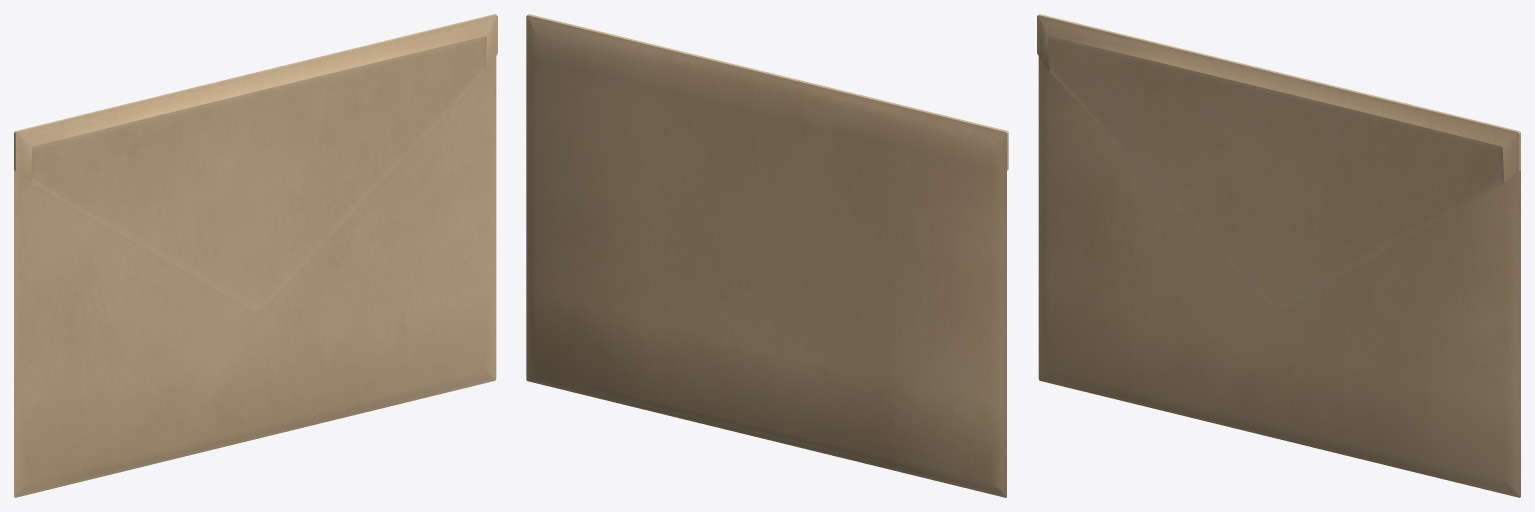
3 views of the same model, side by side, from view 1: azimuth 30°, elevation 25°; view 2: azimuth 150°, elevation 25°; view 3: azimuth 330°, elevation 25° (orthographic).
Parts seen in each view (by area): view 1: envelope_low_envelope_0; view 2: envelope_low_envelope_0; view 3: envelope_low_envelope_0.
Boxes of the visible parts, x1,y1,x2,y2 form: envelope_low_envelope_0: [14, 14, 497, 497]; envelope_low_envelope_0: [526, 14, 1008, 497]; envelope_low_envelope_0: [1037, 14, 1520, 497].
Bounding box in the file's own units: 0.11 × 0.08 × 0.00298.
1 material, 1 textured.
